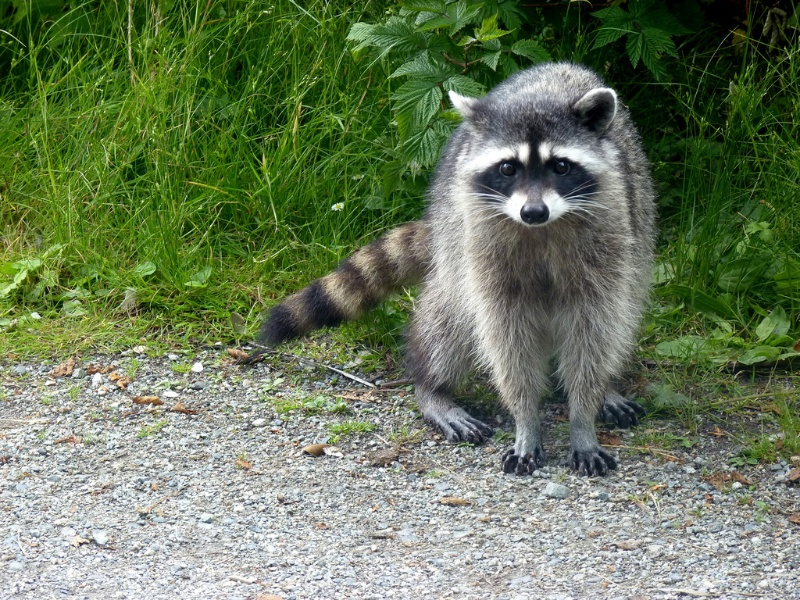raccoon: (244, 60, 659, 488)
